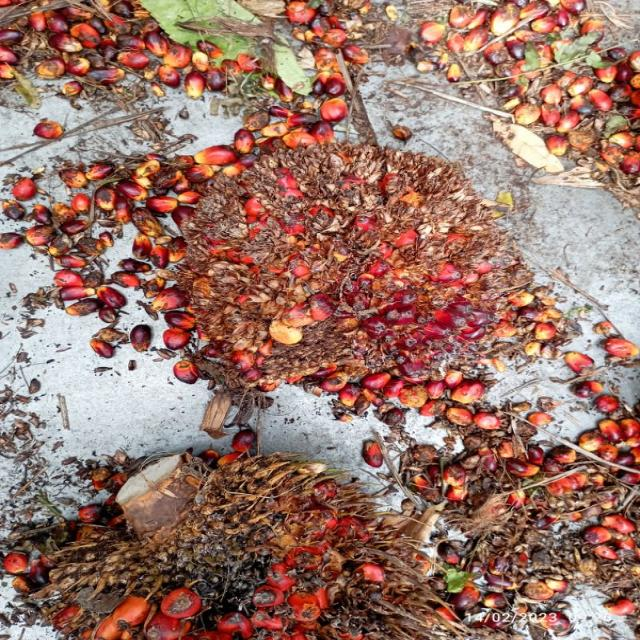fraksi 4: (93, 78, 591, 505)
